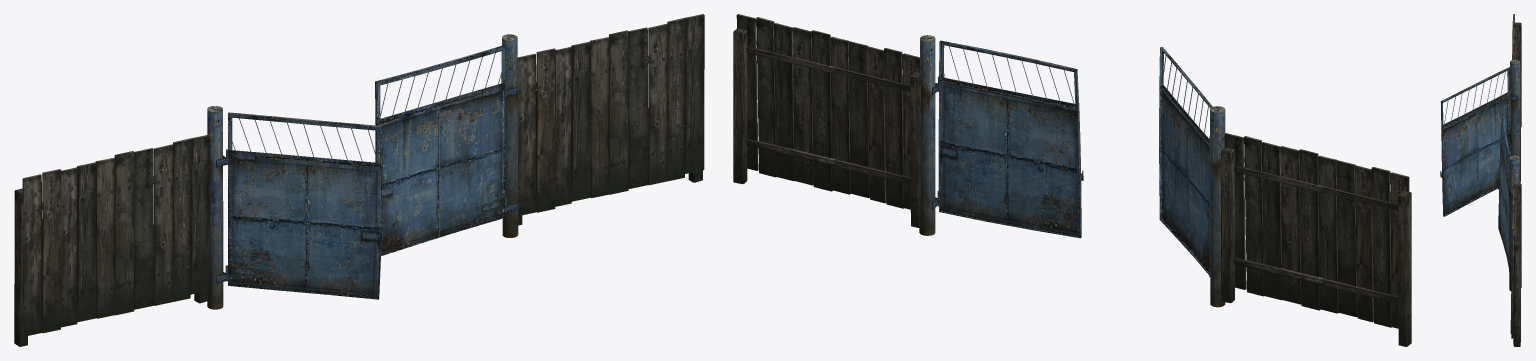
The model's file is MetalGate_Blue.FBX.
3 renders of one model, left to right at view 1: azimuth 30°, elevation 25°; view 2: azimuth 150°, elevation 25°; view 3: azimuth 270°, elevation 25°, orthographic. The views are drawn at different scales.
Parts seen in each view (by area): view 1: Hi_wood_fence_06, Hi_wood_fence_07, Gate_L, Gate_R, Gate_stolb_L, Gate_stol; view 2: Hi_wood_fence_06, Hi_wood_fence_07, Gate_R, Gate_L, Gate_stol, Gate_stolb_L; view 3: Gate_L, Hi_wood_fence_07, Gate_R, Gate_stolb_L, Gate_stol, Hi_wood_fence_06.
Boxes of the visible parts, box(x1,y1,x2,y2) form: Hi_wood_fence_06: box(14, 134, 210, 346); Hi_wood_fence_07: box(517, 14, 704, 225); Gate_L: box(225, 112, 382, 299); Gate_R: box(375, 45, 506, 255); Gate_stolb_L: box(207, 106, 228, 309); Gate_stol: box(502, 34, 518, 237); Hi_wood_fence_06: box(1221, 133, 1411, 346); Hi_wood_fence_07: box(733, 14, 920, 227); Gate_R: box(937, 40, 1083, 238); Gate_L: box(1159, 47, 1212, 274); Gate_stol: box(919, 35, 938, 235); Gate_stolb_L: box(1209, 106, 1225, 307); Gate_L: box(1440, 67, 1510, 216); Hi_wood_fence_07: box(1510, 175, 1521, 346); Gate_R: box(1498, 113, 1510, 267); Gate_stolb_L: box(1510, 60, 1520, 183); Gate_stol: box(1508, 155, 1519, 290); Hi_wood_fence_06: box(1512, 14, 1521, 183).
Size of the model in its own units: 10.96 by 3.02 by 1.69.
